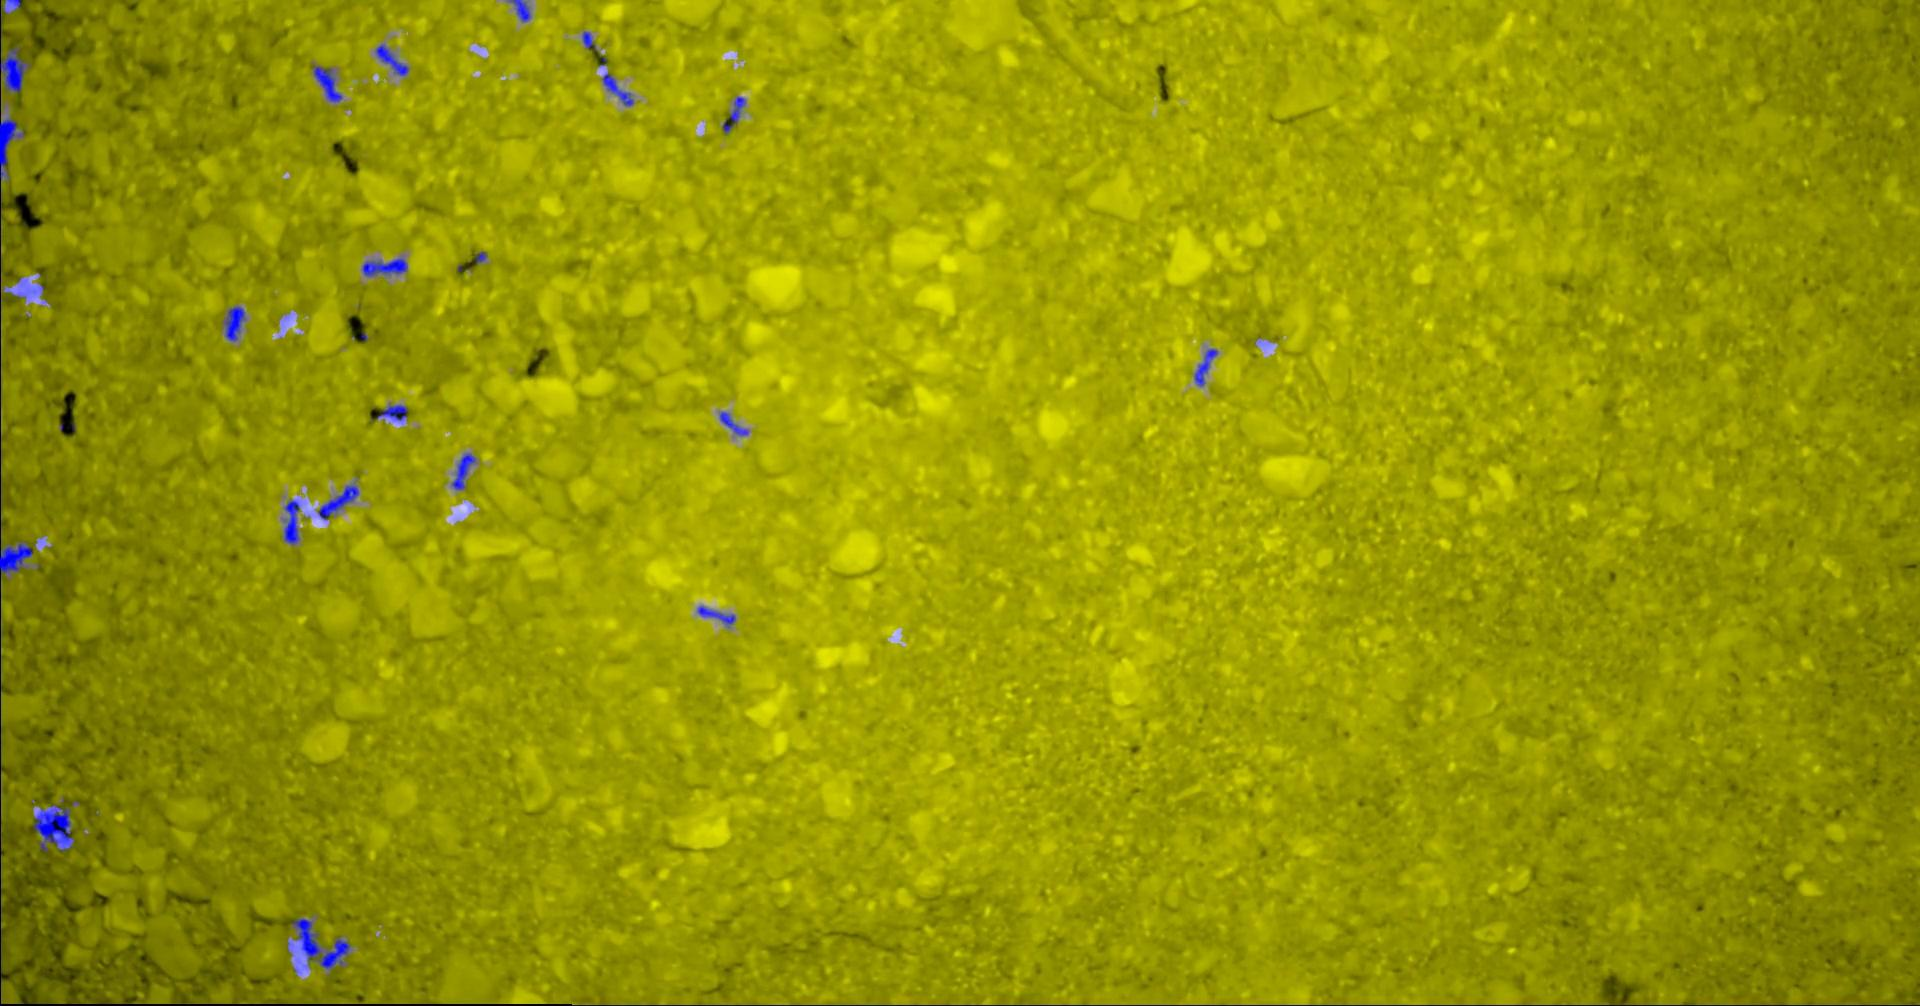ant: (291, 918, 350, 969), (0, 117, 23, 179), (317, 485, 358, 520), (0, 46, 29, 91), (0, 541, 32, 575), (312, 65, 342, 102), (375, 44, 408, 75), (602, 72, 632, 105), (451, 453, 475, 489), (1194, 348, 1217, 385), (723, 97, 745, 132), (362, 258, 408, 276), (223, 306, 244, 340), (697, 606, 735, 624), (283, 500, 298, 544), (719, 412, 747, 434), (376, 404, 408, 420), (509, 0, 530, 22), (0, 0, 20, 20), (582, 30, 597, 51)
